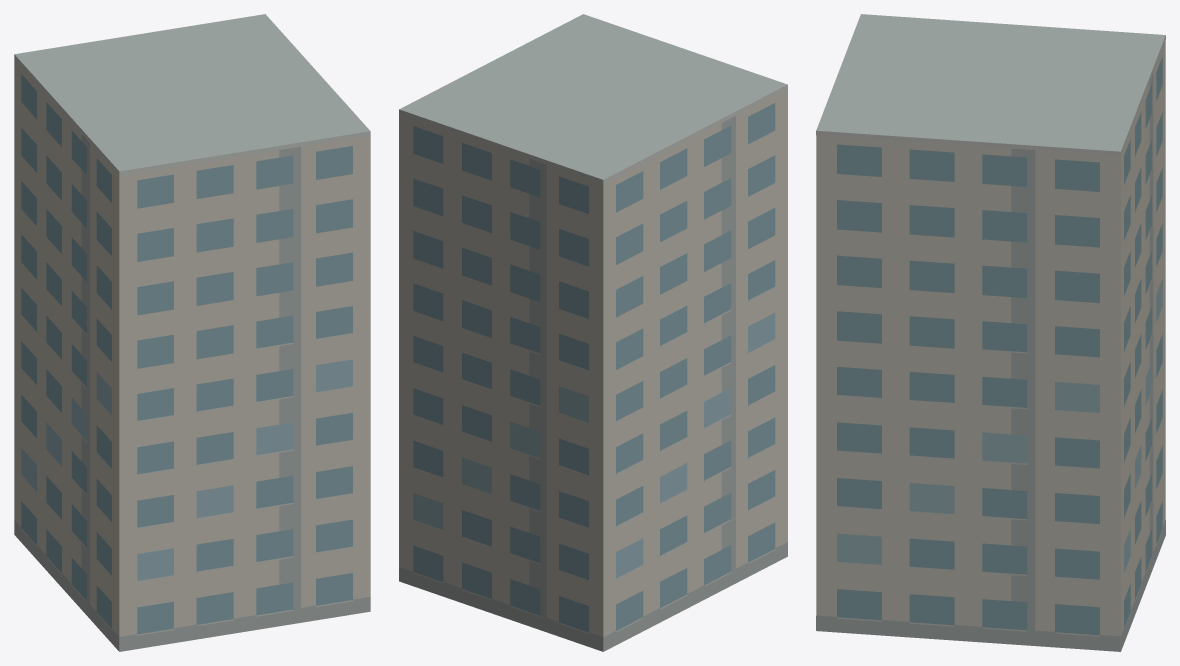
The model's file is residential-5de699e1-6be3-4a22-9758-1afc208ddf1a.glb.
3 views of the same model, side by side, from view 1: azimuth 30°, elevation 25°; view 2: azimuth 150°, elevation 25°; view 3: azimuth 270°, elevation 25° (orthographic). The views are drawn at different scales.
Parts seen in each view (by area): view 1: residential-5de699e1-6be3-4a22-9758-1afc208ddf1a.tmp; view 2: residential-5de699e1-6be3-4a22-9758-1afc208ddf1a.tmp; view 3: residential-5de699e1-6be3-4a22-9758-1afc208ddf1a.tmp.
Part boxes in pixels (<box>): residential-5de699e1-6be3-4a22-9758-1afc208ddf1a.tmp: <box>14,14,370,651</box>; residential-5de699e1-6be3-4a22-9758-1afc208ddf1a.tmp: <box>399,14,787,651</box>; residential-5de699e1-6be3-4a22-9758-1afc208ddf1a.tmp: <box>816,14,1165,651</box>.
Size of the model in its own units: 16.2 by 27.45 by 17.4.
